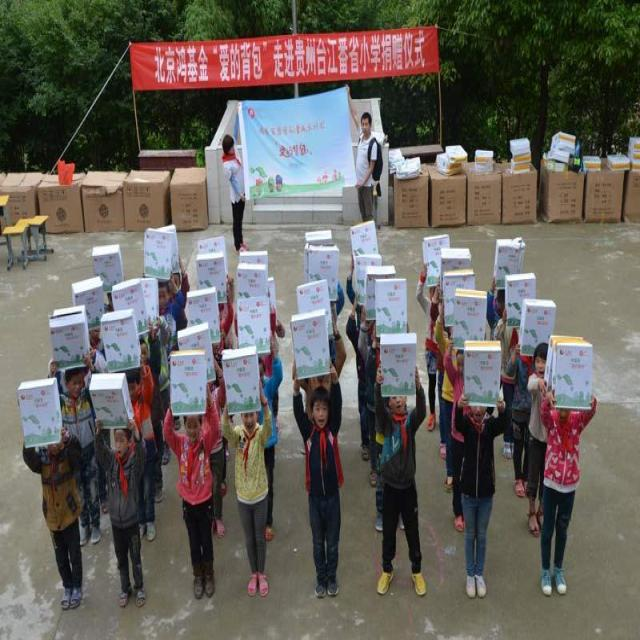non-fight: (369, 322, 429, 602), (220, 388, 276, 596), (453, 386, 507, 598), (92, 417, 151, 610), (302, 387, 346, 600)
